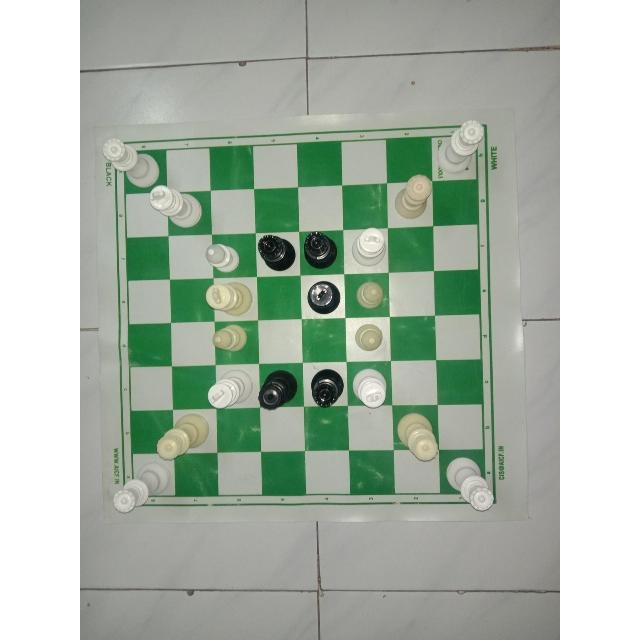black-king: (306, 278, 342, 316)
black-queen: (258, 368, 298, 412), (306, 364, 345, 408), (259, 231, 298, 274), (302, 231, 340, 270)
white-bishop: (209, 319, 254, 359), (201, 238, 245, 274), (350, 323, 387, 357), (353, 279, 385, 308)
white-king: (149, 185, 205, 229), (204, 370, 254, 410), (204, 280, 252, 320), (349, 227, 391, 269), (350, 368, 387, 408)
white-queen: (112, 457, 170, 513), (436, 118, 488, 174), (103, 136, 159, 187), (157, 409, 209, 461), (445, 456, 492, 511), (396, 411, 438, 461), (391, 174, 433, 221)
